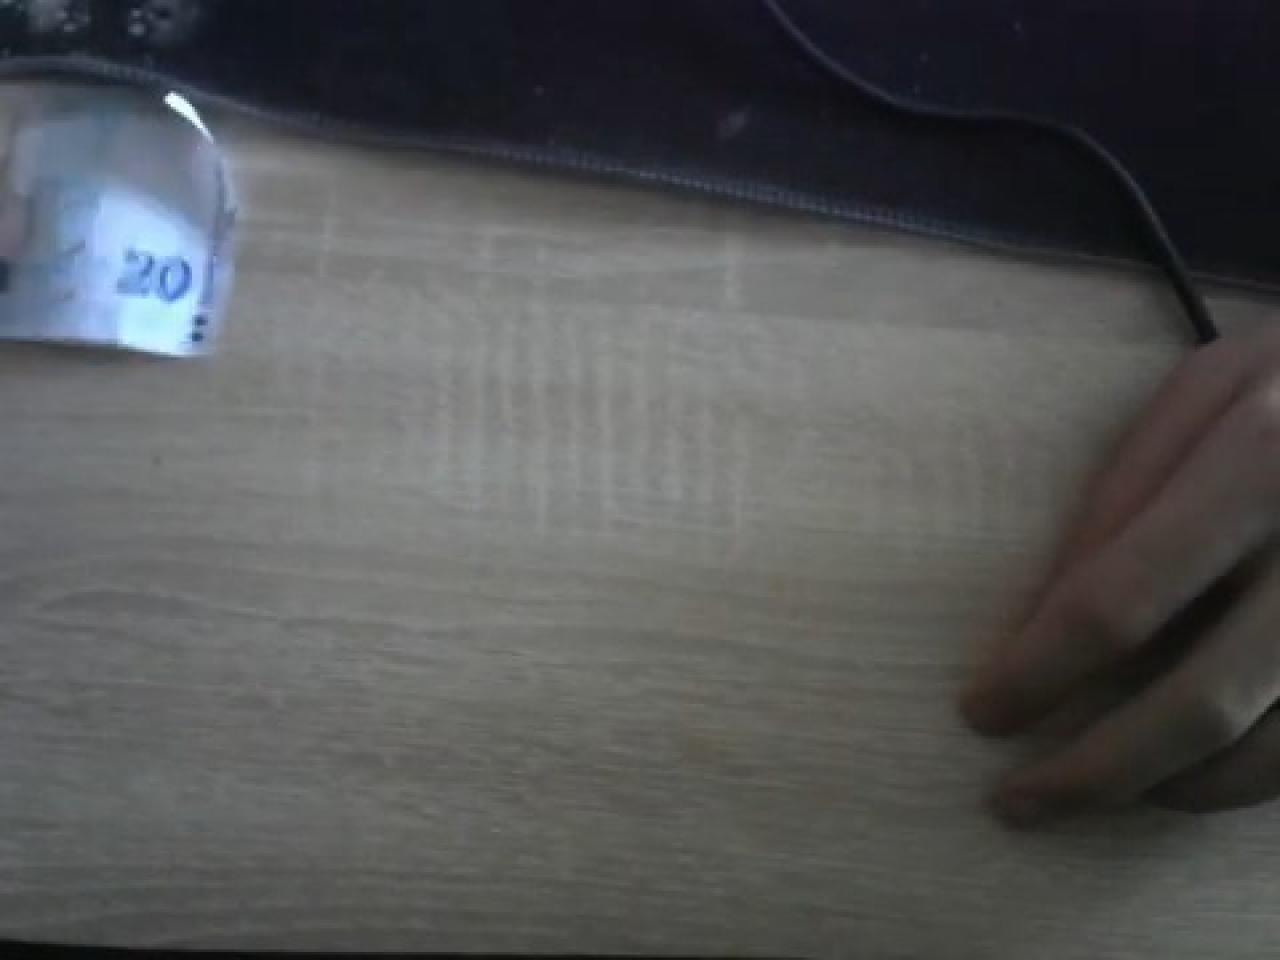20leva: (0, 58, 243, 363)
